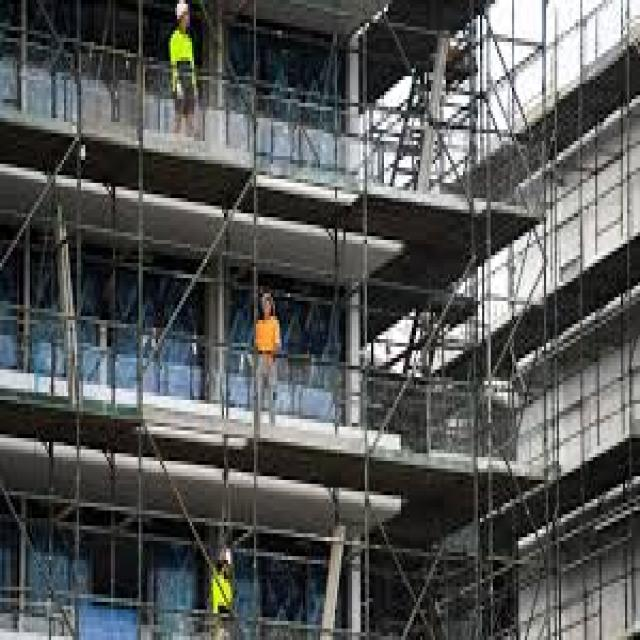Reflective-Jacket: (164, 27, 198, 95)
Safety-Helmet: (171, 0, 192, 27)
